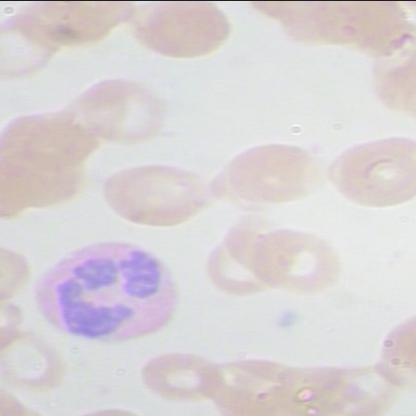Platelets: (263, 306, 308, 334)
RBC: (96, 156, 208, 233), (67, 78, 179, 155), (218, 136, 330, 212), (0, 98, 94, 186), (240, 222, 346, 296), (330, 130, 415, 220), (128, 1, 237, 69), (196, 350, 302, 416), (320, 1, 414, 60), (133, 344, 221, 406), (219, 213, 296, 280), (195, 235, 271, 302), (0, 326, 63, 401), (1, 10, 60, 80), (377, 304, 415, 382), (237, 1, 313, 26)
WBC: (22, 230, 183, 358)
